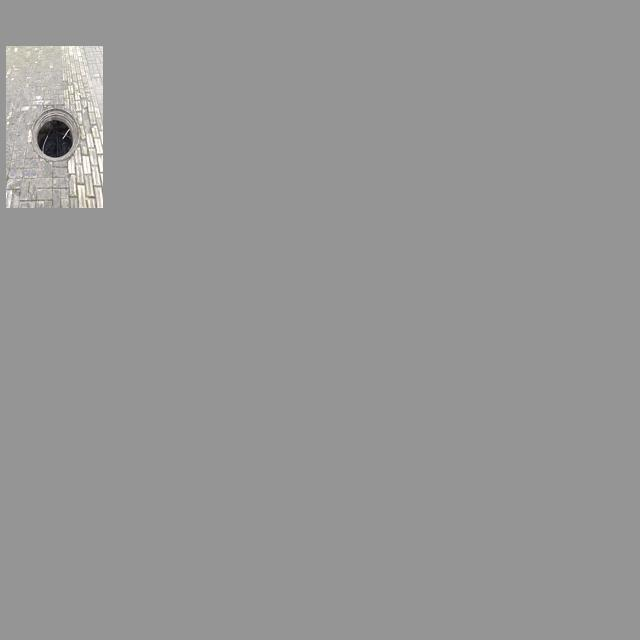lose: (31, 107, 79, 162)
